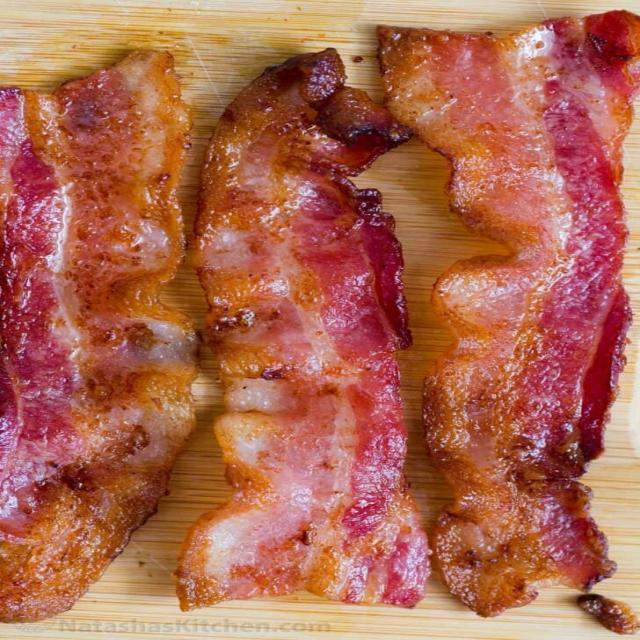Bacon: (379, 11, 639, 616), (174, 49, 429, 610), (0, 50, 197, 622)
